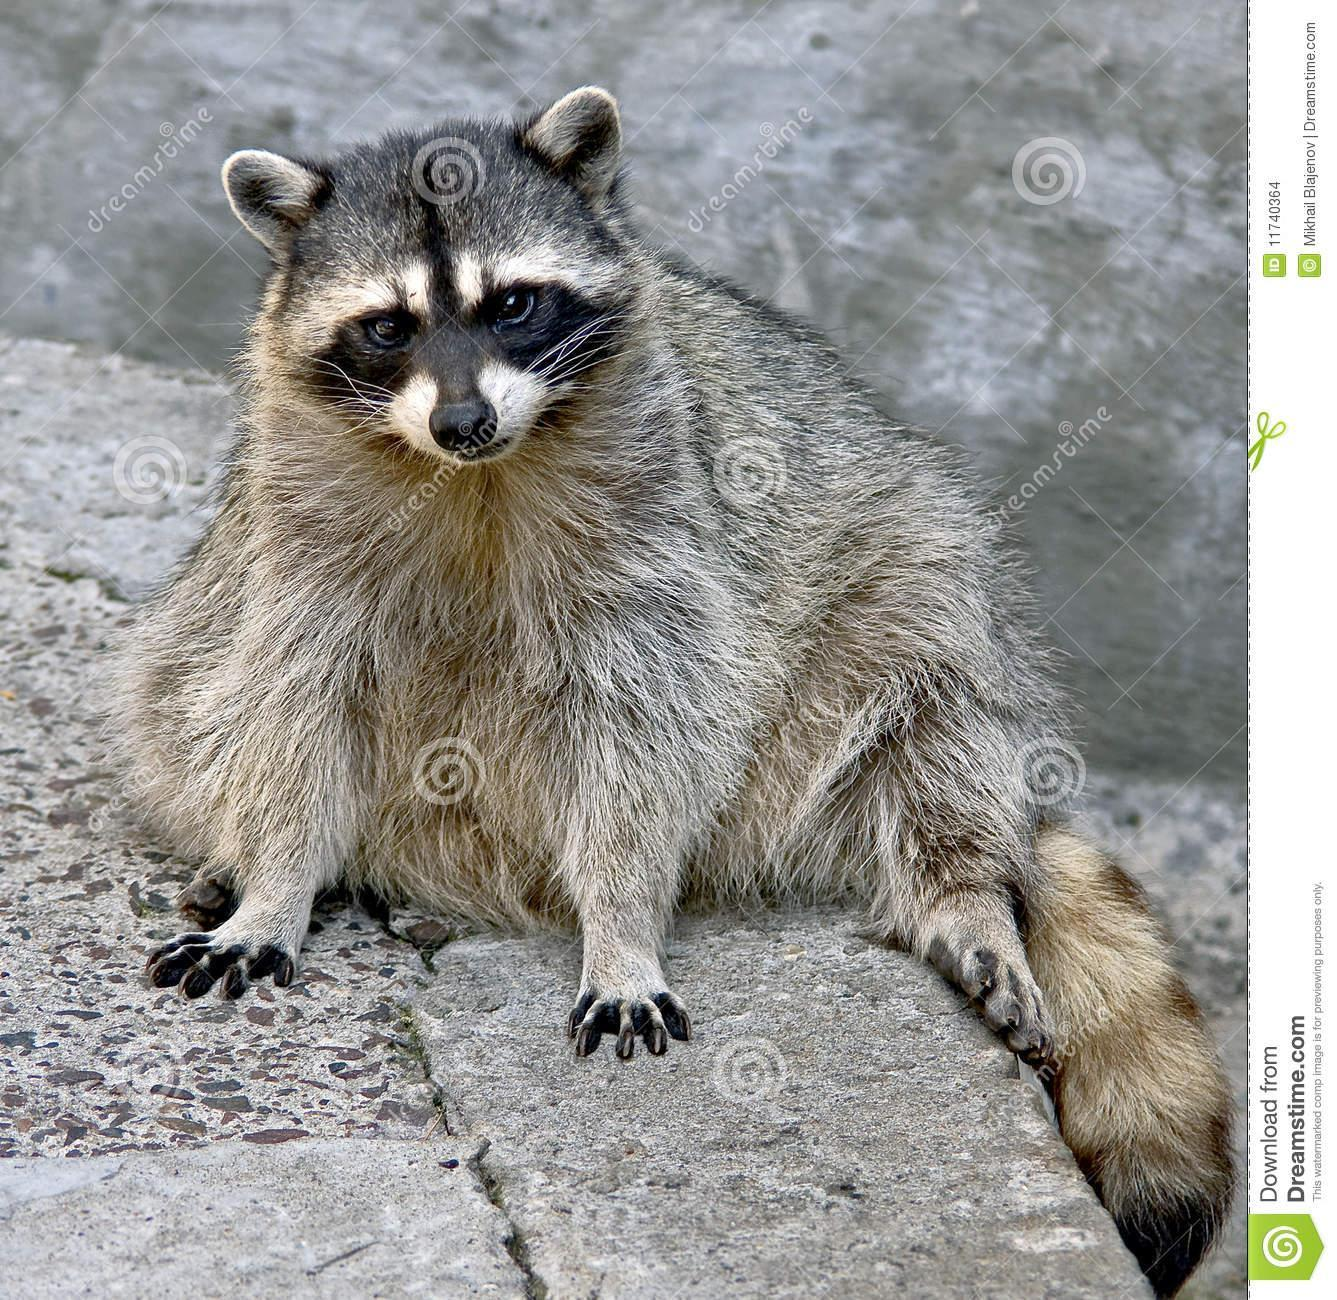raccoon: (109, 91, 1243, 1300)
